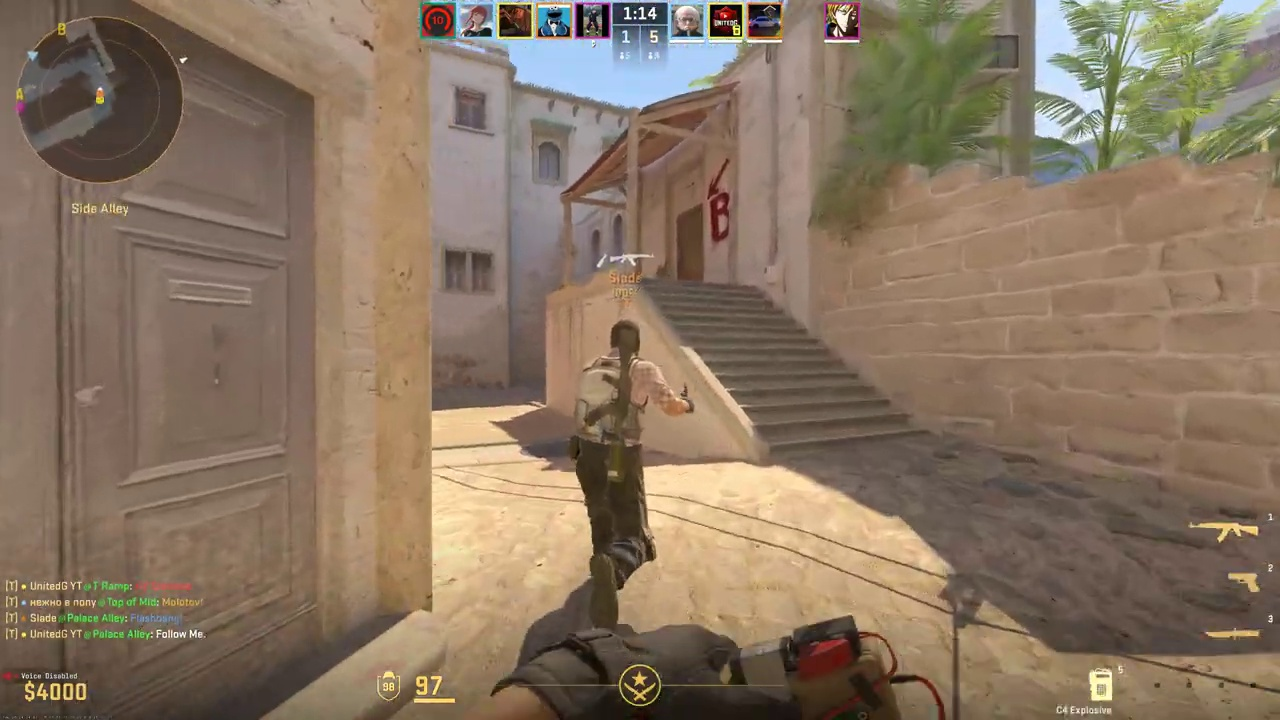Terrorist: (573, 321, 672, 628)
